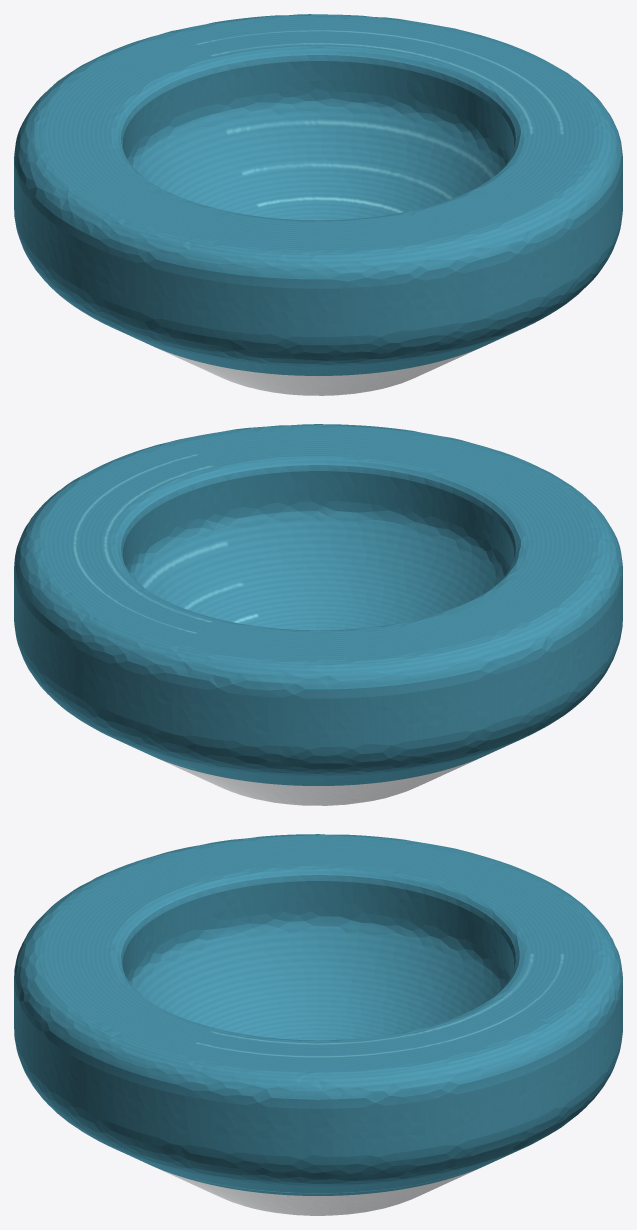
File: yoyo-top_shell.glb
The picture shows the model from 3 angles, top to bottom: view 1: azimuth 30°, elevation 25°; view 2: azimuth 150°, elevation 25°; view 3: azimuth 270°, elevation 25°; orthographic projection.
Visible parts, largest first — view 1: top_dome, top_rim; view 2: top_dome, top_rim; view 3: top_dome, top_rim.
Boxes of the visible parts, left/top/right/bottom form: top_dome: left=14, top=14, right=622, bottom=375; top_rim: left=157, top=348, right=479, bottom=395; top_dome: left=14, top=424, right=622, bottom=785; top_rim: left=153, top=756, right=479, bottom=805; top_dome: left=14, top=834, right=622, bottom=1195; top_rim: left=157, top=1168, right=479, bottom=1215.
Size of the model in its own units: 0.0532 by 0.02 by 0.0532.
Materials: 2 (1 with a texture image).
